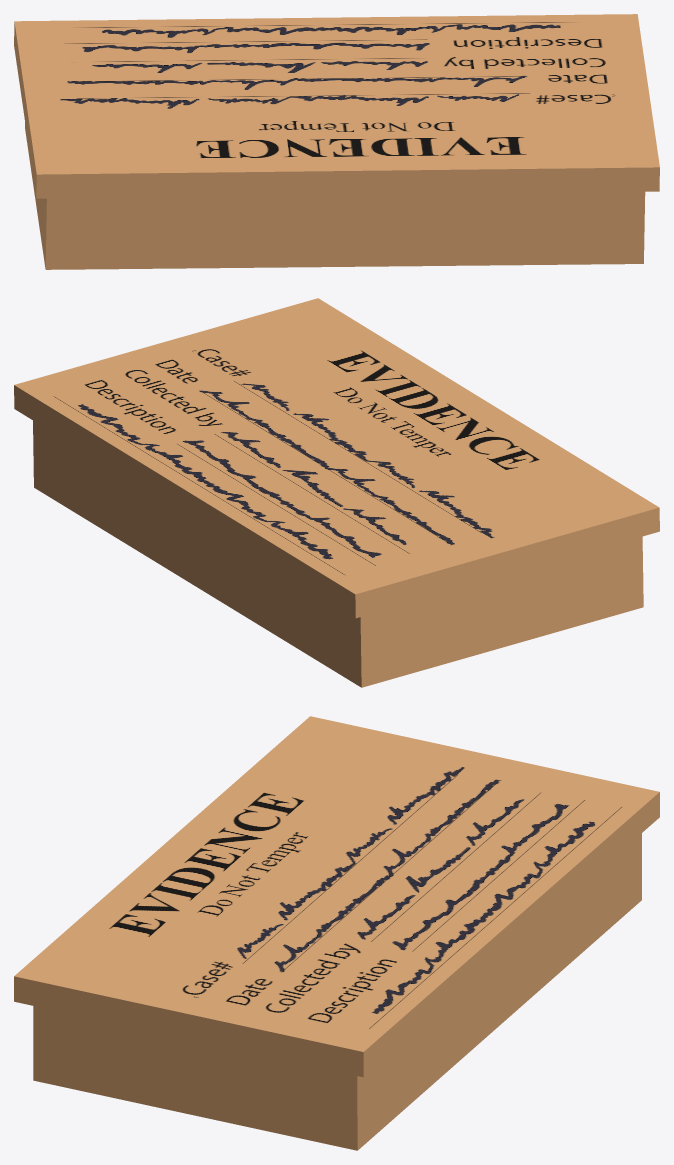
The model's file is EvidenceboxWeapon.fbx.
The picture shows the model from 3 angles, top to bottom: view 1: azimuth 30°, elevation 25°; view 2: azimuth 150°, elevation 25°; view 3: azimuth 270°, elevation 25°; orthographic projection. The views are drawn at different scales.
Visible parts, largest first — view 1: weapon_box; view 2: weapon_box; view 3: weapon_box.
Part boxes in pixels (<box>): weapon_box: <box>14,14,659,269</box>; weapon_box: <box>14,298,659,687</box>; weapon_box: <box>14,716,659,1150</box>.
Size of the model in its own units: 4.16 by 0.7106 by 3.49.
1 material, 1 textured.
